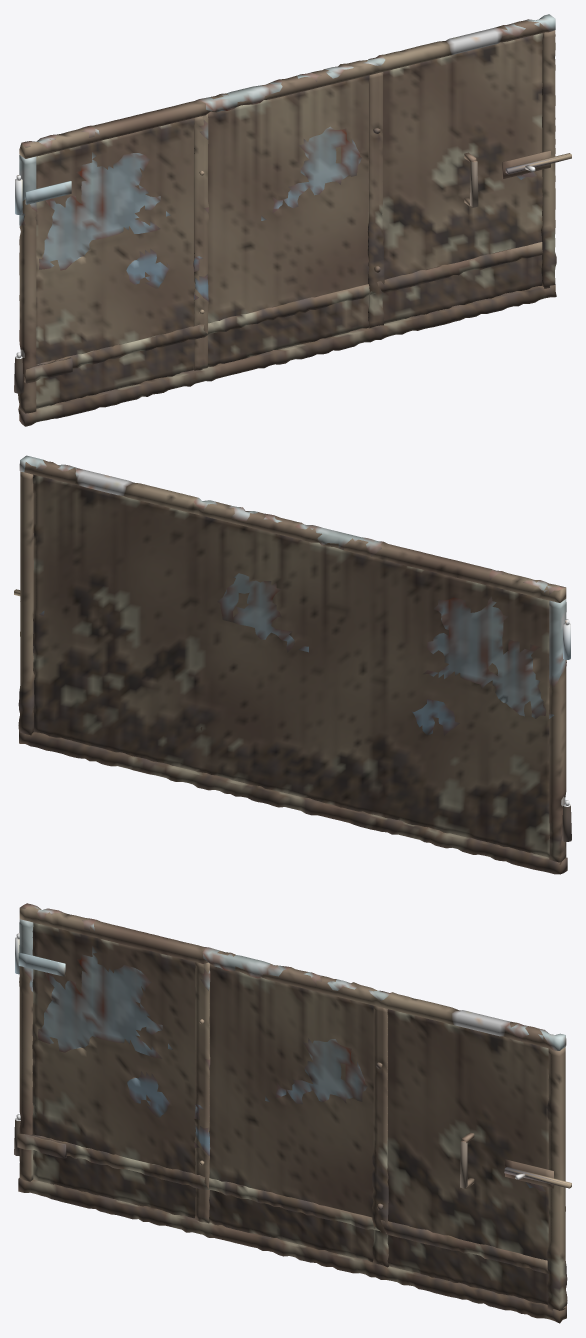
The model's file is rusted_steel_panel_b.glb.
3 views of the same model, one above another, from view 1: azimuth 30°, elevation 25°; view 2: azimuth 150°, elevation 25°; view 3: azimuth 330°, elevation 25° (orthographic).
Visible parts, largest first — view 1: hb_steel; view 2: hb_steel; view 3: hb_steel.
Boxes of the visible parts, x1,y1,x2,y2 form: hb_steel: (14, 14, 571, 426); hb_steel: (14, 455, 571, 874); hb_steel: (14, 903, 571, 1323).
Size of the model in its own units: 2.08 by 1.01 by 0.112.
